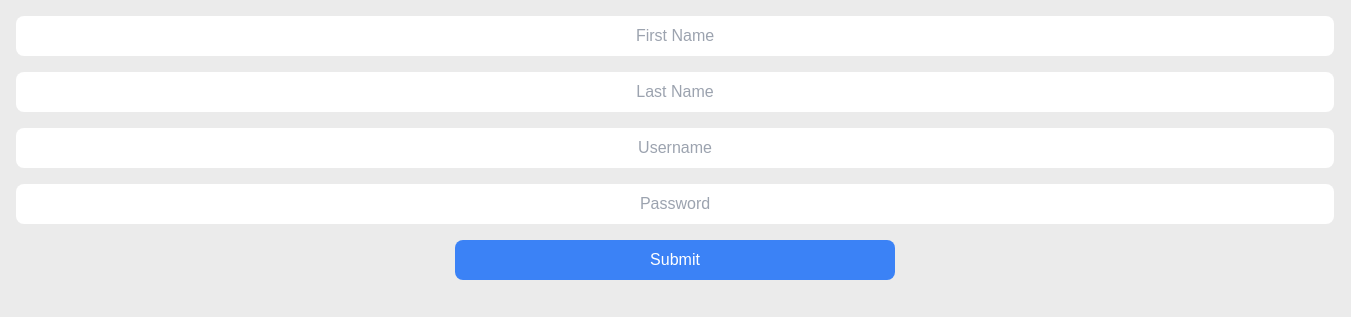
Register Form › should return string and display state for successful register
Type "Alice" into the field with placeholder "First Name" at (675, 36), box 16,16 -> 1334,56
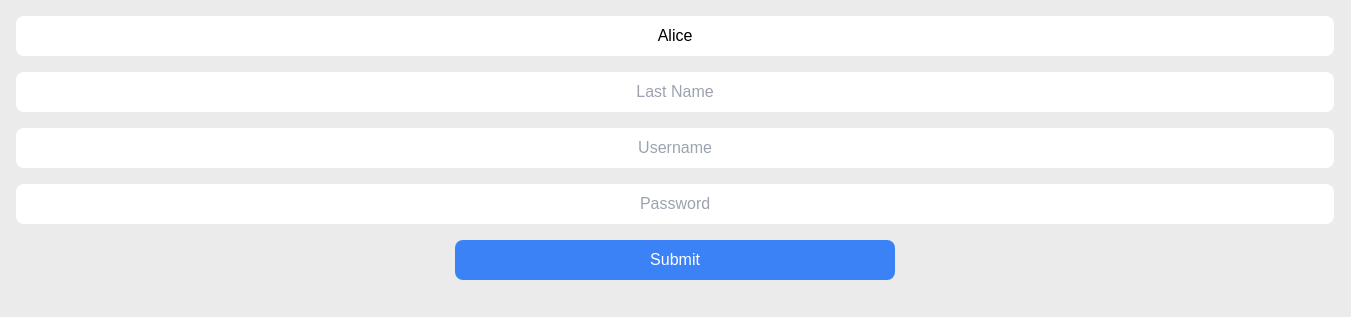
Type "Smith" into the field with placeholder "Last Name" at (675, 92), box 16,72 -> 1334,112
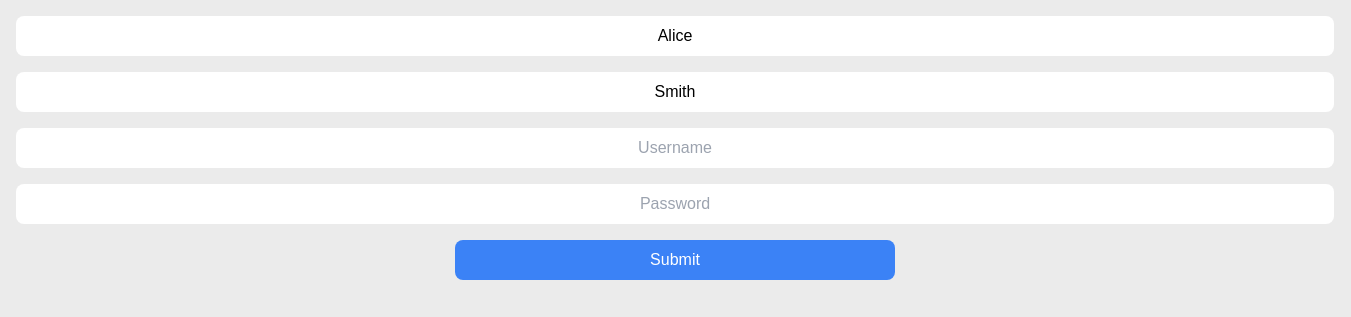
Type "ascii123" into the field with placeholder "Username" at (675, 148), box 16,128 -> 1334,168
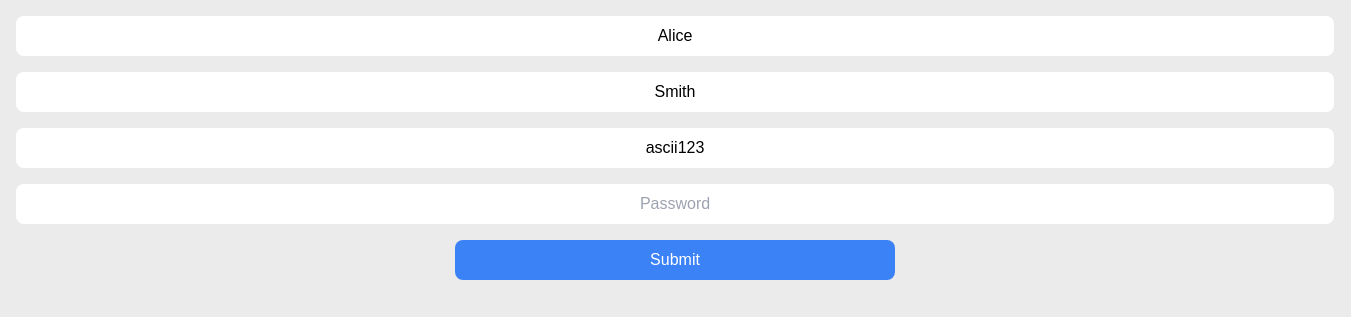
Type "password123" into the password field with placeholder "Password" at (675, 204), box 16,184 -> 1334,224
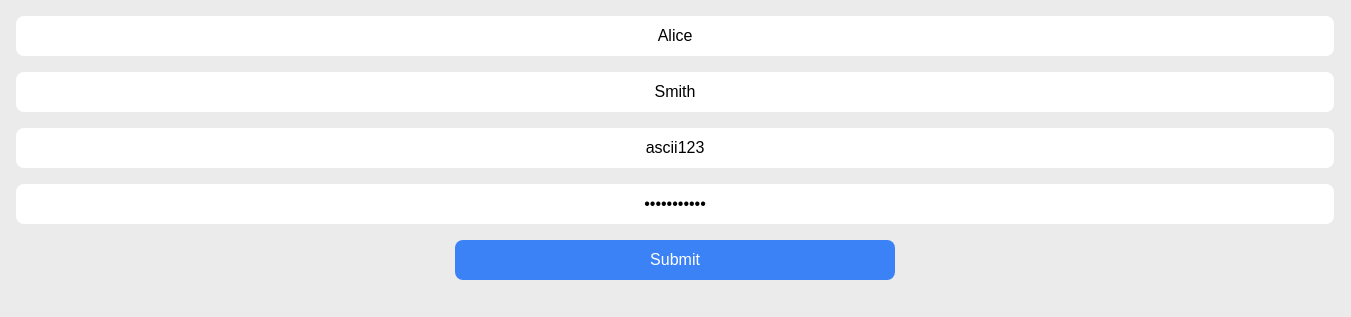
Click the button "Submit" at (675, 260), box 455,240 -> 895,280
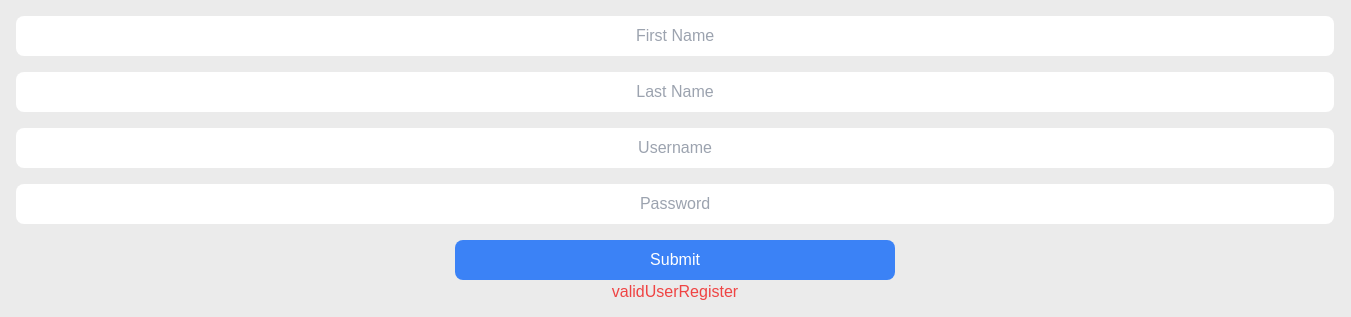
Expected: the text "validUserRegister" is shown, 612,283 -> 738,300
